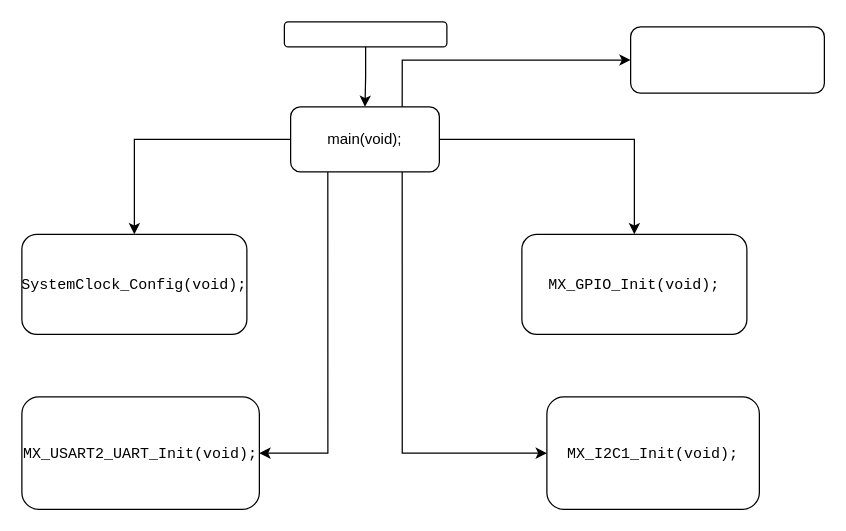
Image size: 846x531. Some labels were removed from this diagram. The centre of each missing label's shape, as x and y in pixels:
Error_Handler(void);: [726,59]
main.c: [365,34]
